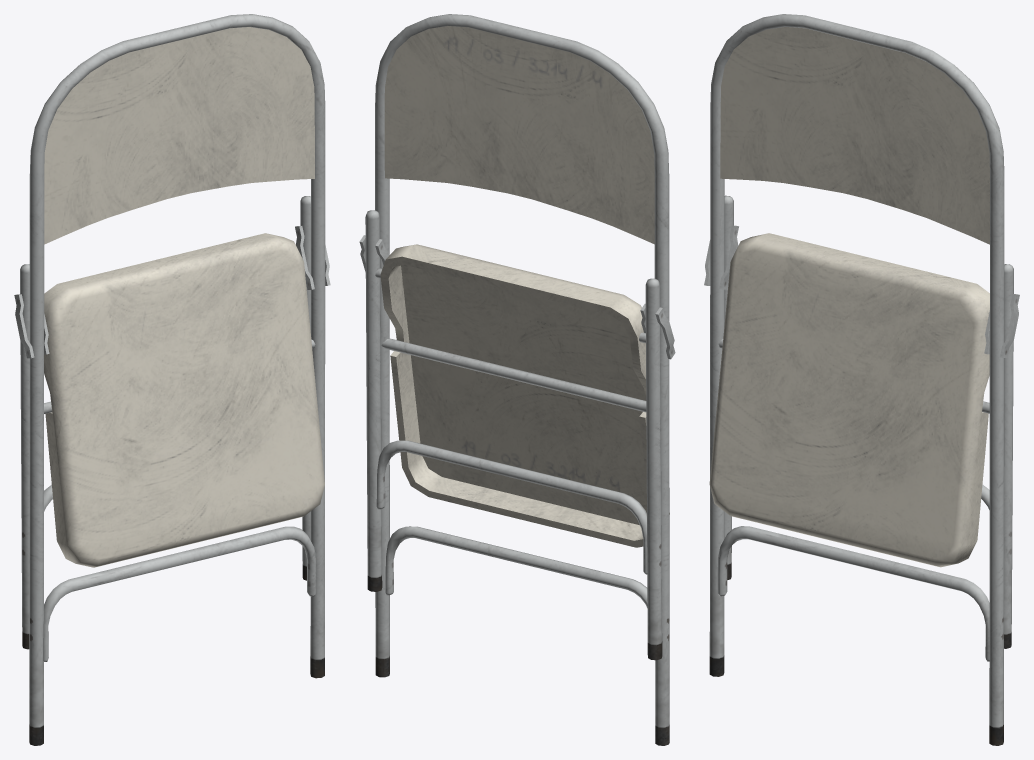
The model's file is OfficeChair_02a_snaps011.fbx.
The picture shows the model from 3 angles, left to right: view 1: azimuth 30°, elevation 25°; view 2: azimuth 150°, elevation 25°; view 3: azimuth 330°, elevation 25°; orthographic projection.
Visible parts, largest first — view 1: OfficeChair_02a_snaps011_LOD0; view 2: OfficeChair_02a_snaps011_LOD0; view 3: OfficeChair_02a_snaps011_LOD0.
Boxes of the visible parts, box(x1,y1,x2,y2) form: OfficeChair_02a_snaps011_LOD0: box(14, 14, 330, 745); OfficeChair_02a_snaps011_LOD0: box(359, 14, 675, 745); OfficeChair_02a_snaps011_LOD0: box(704, 14, 1019, 745).
Size of what is drawn, in the model's own units: 47 by 100 by 10.98.
